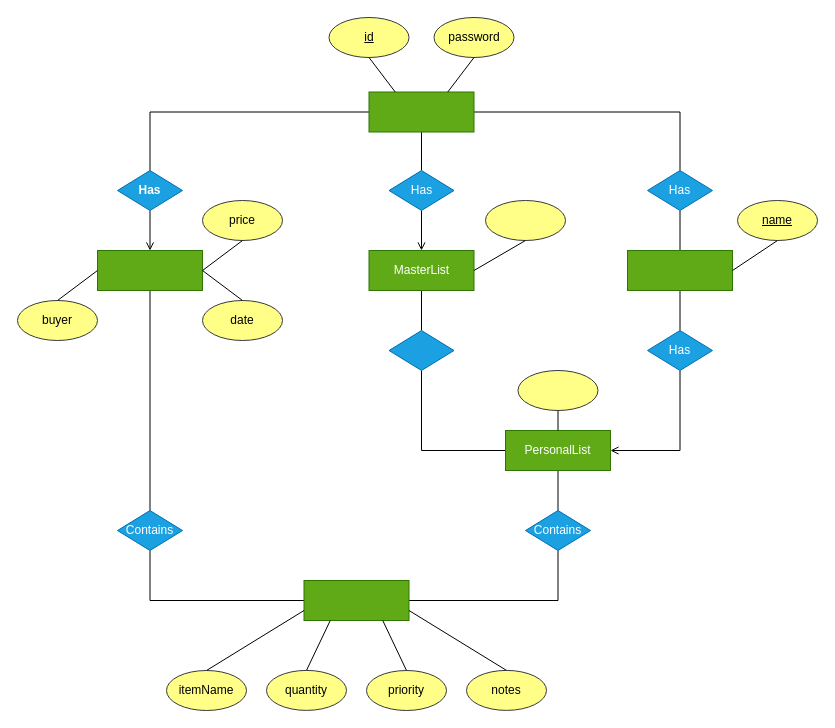
This 835x728 diagram has some shape labels left out. Each missing label, with the centre of its shape:
"Account" goes at pixel 421 111.
"belongsTo" goes at pixel 525 220.
"Compiles" goes at pixel 421 350.
"Item" goes at pixel 356 600.
"PurchaseHistory" goes at pixel 149 270.
"User" goes at pixel 679 270.
"userID" goes at pixel 557 390.
